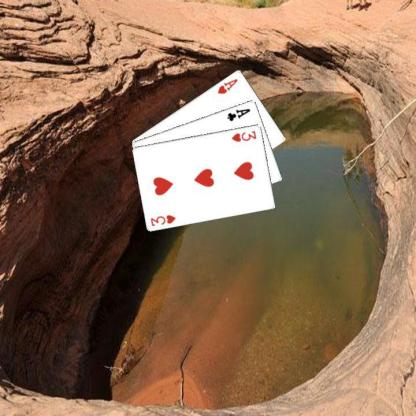3H: (229, 128, 258, 143), (148, 212, 177, 227)
AC: (225, 106, 251, 122)
AH: (215, 76, 239, 94)
